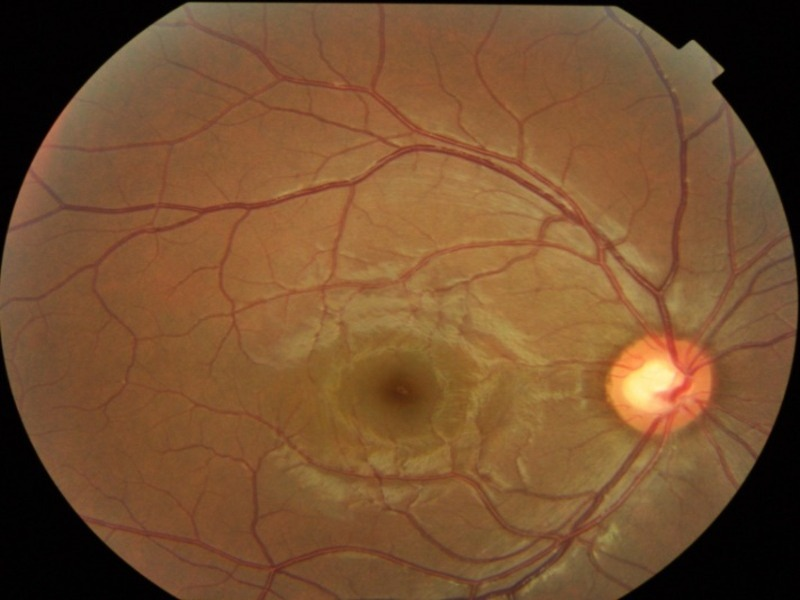Optic Cup: (621, 360, 673, 407)
Optic Disc: (602, 334, 712, 439)
